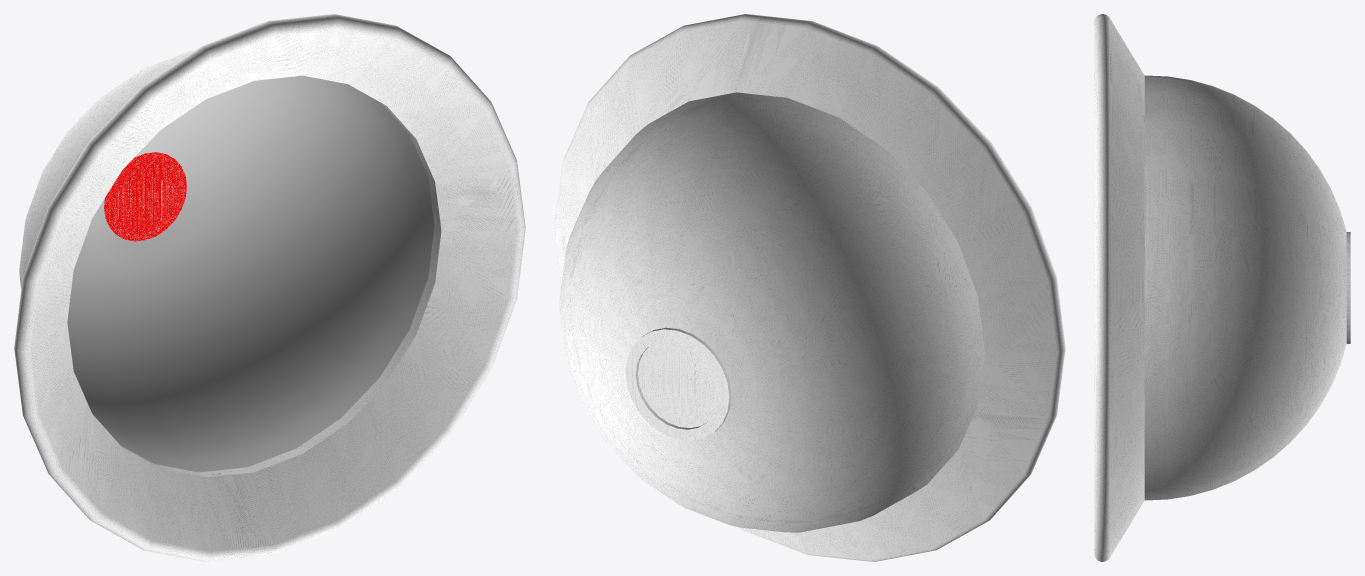
File: model_scale.obj
The picture shows the model from 3 angles, left to right: view 1: azimuth 30°, elevation 25°; view 2: azimuth 150°, elevation 25°; view 3: azimuth 270°, elevation 25°; orthographic projection. The views are drawn at different scales.
Visible parts, largest first — view 1: mesh1_mesh1-geometry; view 2: mesh1_mesh1-geometry; view 3: mesh1_mesh1-geometry.
Part boxes in pixels (x1,y1,x2,y2): mesh1_mesh1-geometry: [14, 14, 525, 561]; mesh1_mesh1-geometry: [554, 14, 1065, 561]; mesh1_mesh1-geometry: [1094, 14, 1350, 561].
Bounding box in the file's own units: 0.1393 × 0.1393 × 0.065.
